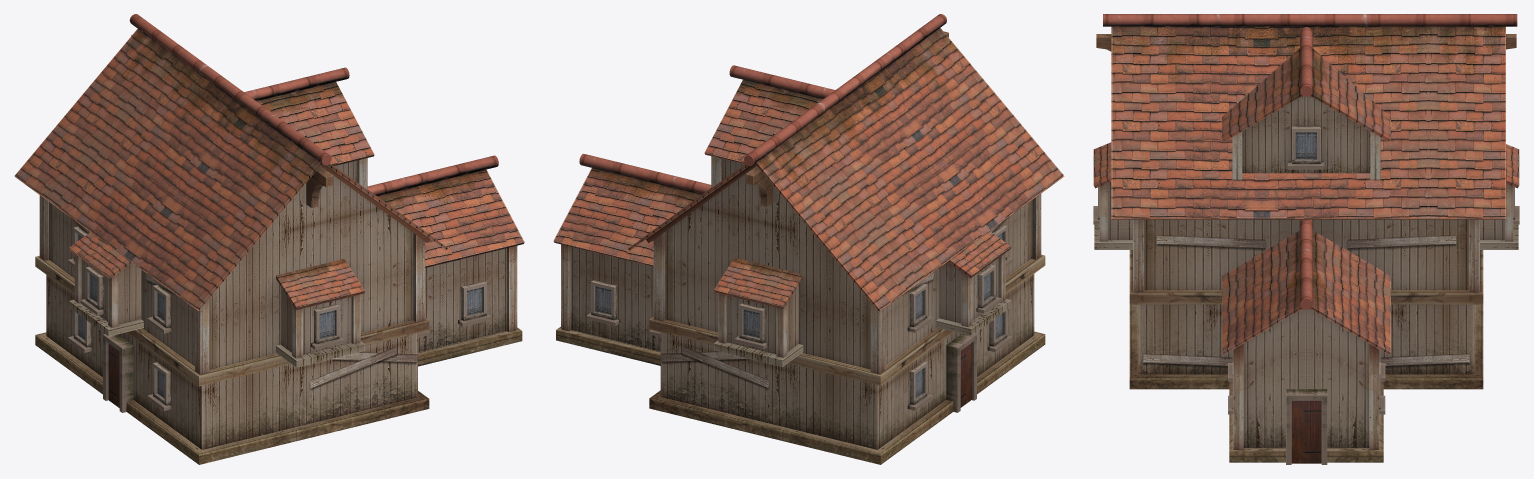
File: S6-1_Medieval_Village_00.FBX
3 views of the same model, side by side, from view 1: azimuth 30°, elevation 25°; view 2: azimuth 150°, elevation 25°; view 3: azimuth 270°, elevation 25° (orthographic). The views are drawn at different scales.
Parts seen in each view (by area): view 1: S6-1_Medieval_Village_House_01; view 2: S6-1_Medieval_Village_House_01; view 3: S6-1_Medieval_Village_House_01.
Part boxes in pixels (box(x1,y1,x2,y2)): S6-1_Medieval_Village_House_01: box(14, 14, 524, 464); S6-1_Medieval_Village_House_01: box(553, 14, 1064, 464); S6-1_Medieval_Village_House_01: box(1093, 14, 1519, 464).
Bounding box in the file's own units: 1659 × 1134 × 1393.
